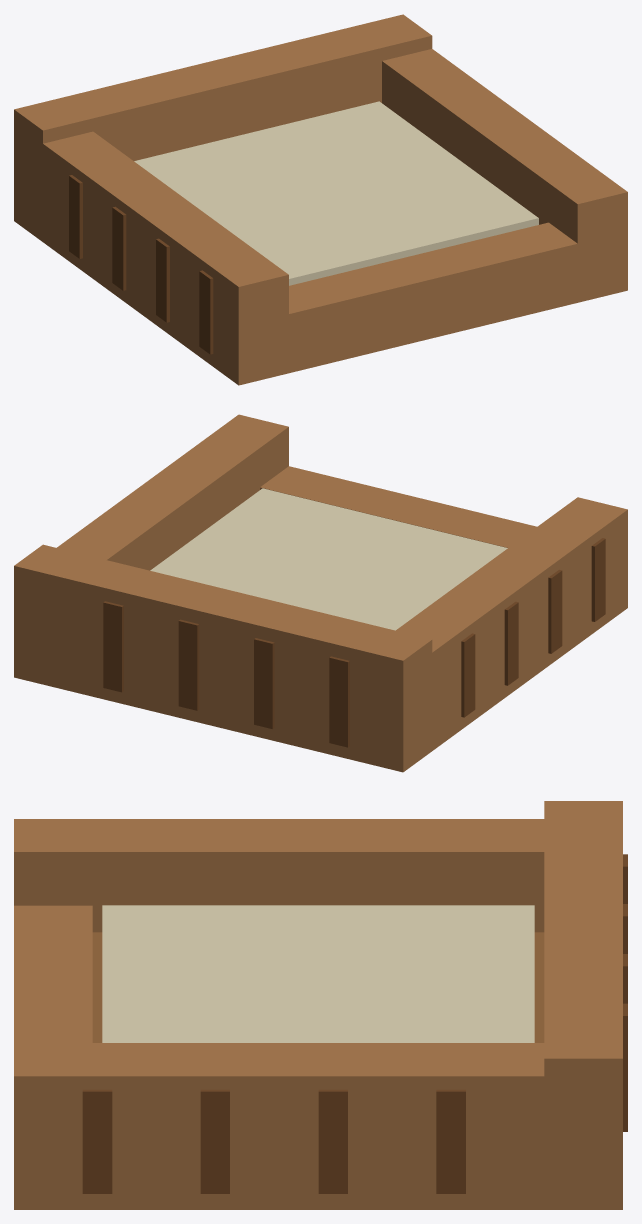
Rendered from ncb-pet-bed-basket.glb.
The picture shows the model from 3 angles, top to bottom: view 1: azimuth 30°, elevation 25°; view 2: azimuth 150°, elevation 25°; view 3: azimuth 270°, elevation 25°; orthographic projection. The views are drawn at different scales.
Parts seen in each view (by area): view 1: box-prop; view 2: box-prop; view 3: box-prop.
Boxes of the visible parts, bbox=[...] form: box-prop: bbox=[14, 14, 627, 385]; box-prop: bbox=[14, 414, 627, 772]; box-prop: bbox=[14, 801, 627, 1209].
Bounding box in the file's own units: 1.26 × 0.34 × 1.25.
